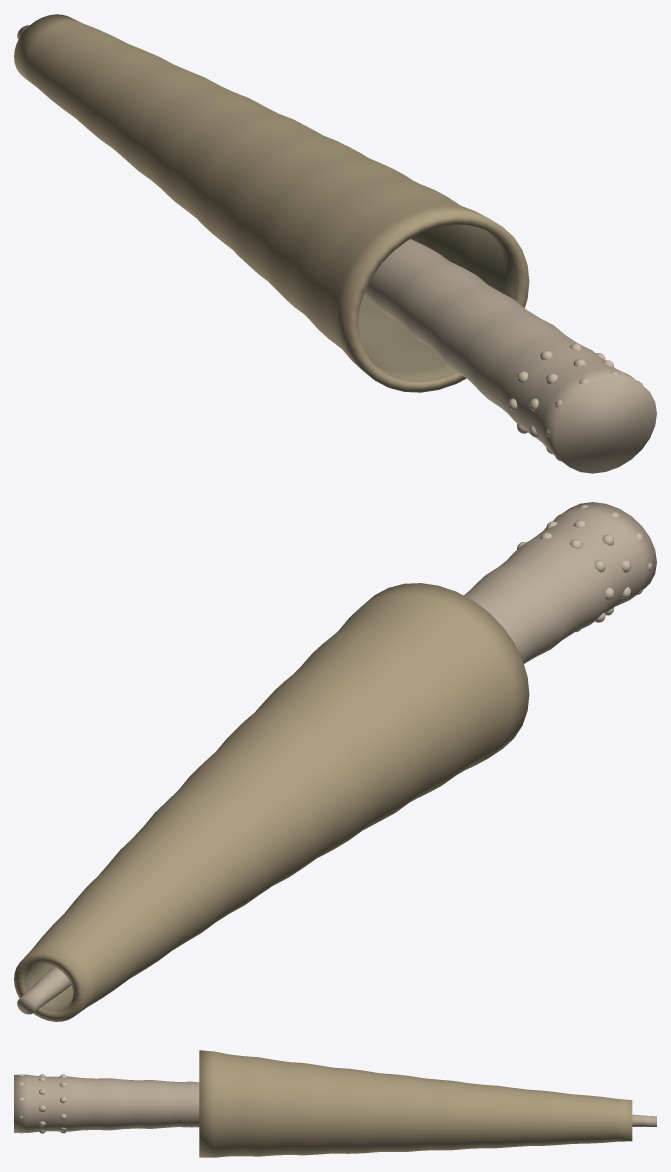
File: selkirkia.glb
The picture shows the model from 3 angles, top to bottom: view 1: azimuth 30°, elevation 25°; view 2: azimuth 150°, elevation 25°; view 3: azimuth 270°, elevation 25°; orthographic projection. The views are drawn at different scales.
Parts seen in each view (by area): view 1: continuous-tapered-sheath-with-two-real-openings-and-solid-w, worm-centred-with-clearance-inside-sheath-no-wall-penetratio, restrained-blunt-ring-teeth-on-exposed-introvert-only; view 2: continuous-tapered-sheath-with-two-real-openings-and-solid-w, worm-centred-with-clearance-inside-sheath-no-wall-penetratio, restrained-blunt-ring-teeth-on-exposed-introvert-only; view 3: continuous-tapered-sheath-with-two-real-openings-and-solid-w, worm-centred-with-clearance-inside-sheath-no-wall-penetratio, restrained-blunt-ring-teeth-on-exposed-introvert-only.
Part boxes in pixels (<box>): continuous-tapered-sheath-with-two-real-openings-and-solid-w: <box>14,14,529,392</box>; worm-centred-with-clearance-inside-sheath-no-wall-penetratio: <box>17,25,656,473</box>; restrained-blunt-ring-teeth-on-exposed-introvert-only: <box>508,343,642,461</box>; continuous-tapered-sheath-with-two-real-openings-and-solid-w: <box>14,583,529,1021</box>; worm-centred-with-clearance-inside-sheath-no-wall-penetratio: <box>17,502,656,1014</box>; restrained-blunt-ring-teeth-on-exposed-introvert-only: <box>517,505,651,632</box>; continuous-tapered-sheath-with-two-real-openings-and-solid-w: <box>199,1050,632,1157</box>; worm-centred-with-clearance-inside-sheath-no-wall-penetratio: <box>14,1074,656,1132</box>; restrained-blunt-ring-teeth-on-exposed-introvert-only: <box>18,1074,66,1133</box>.
Size of the model in its own units: 0.00994 by 0.00906 by 0.055.
